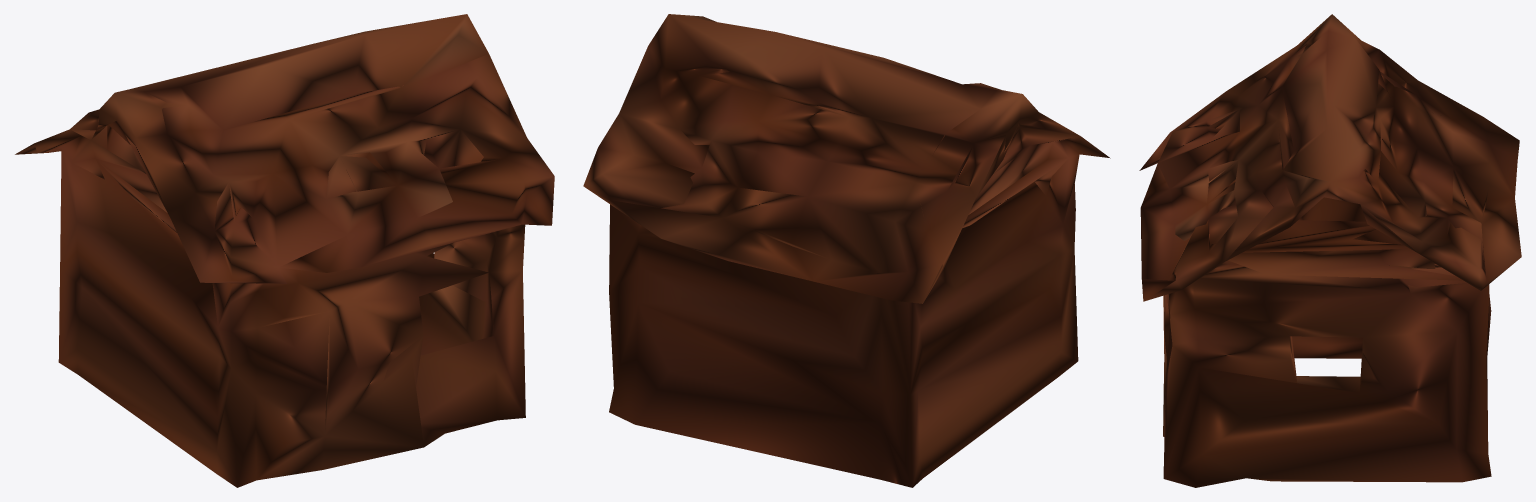
Rendered from gen3d-wooden-hut-lod1.glb.
3 renders of one model, left to right at view 1: azimuth 30°, elevation 25°; view 2: azimuth 150°, elevation 25°; view 3: azimuth 270°, elevation 25°, orthographic. The views are drawn at different scales.
Parts seen in each view (by area): view 1: part_0; view 2: part_0; view 3: part_0.
Part boxes in pixels (box(x1,y1,x2,y2)): part_0: box(15, 14, 554, 487); part_0: box(583, 14, 1110, 487); part_0: box(1139, 14, 1521, 487).
Size of the model in its own units: 1.09 by 0.9963 by 1.07.
